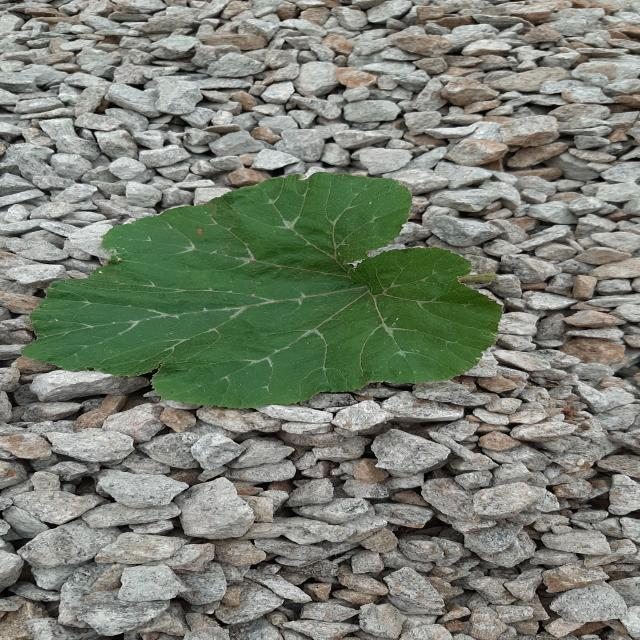pumpkin: (24, 172, 499, 408)
